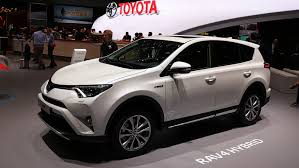Toyota: (44, 37, 257, 144)
